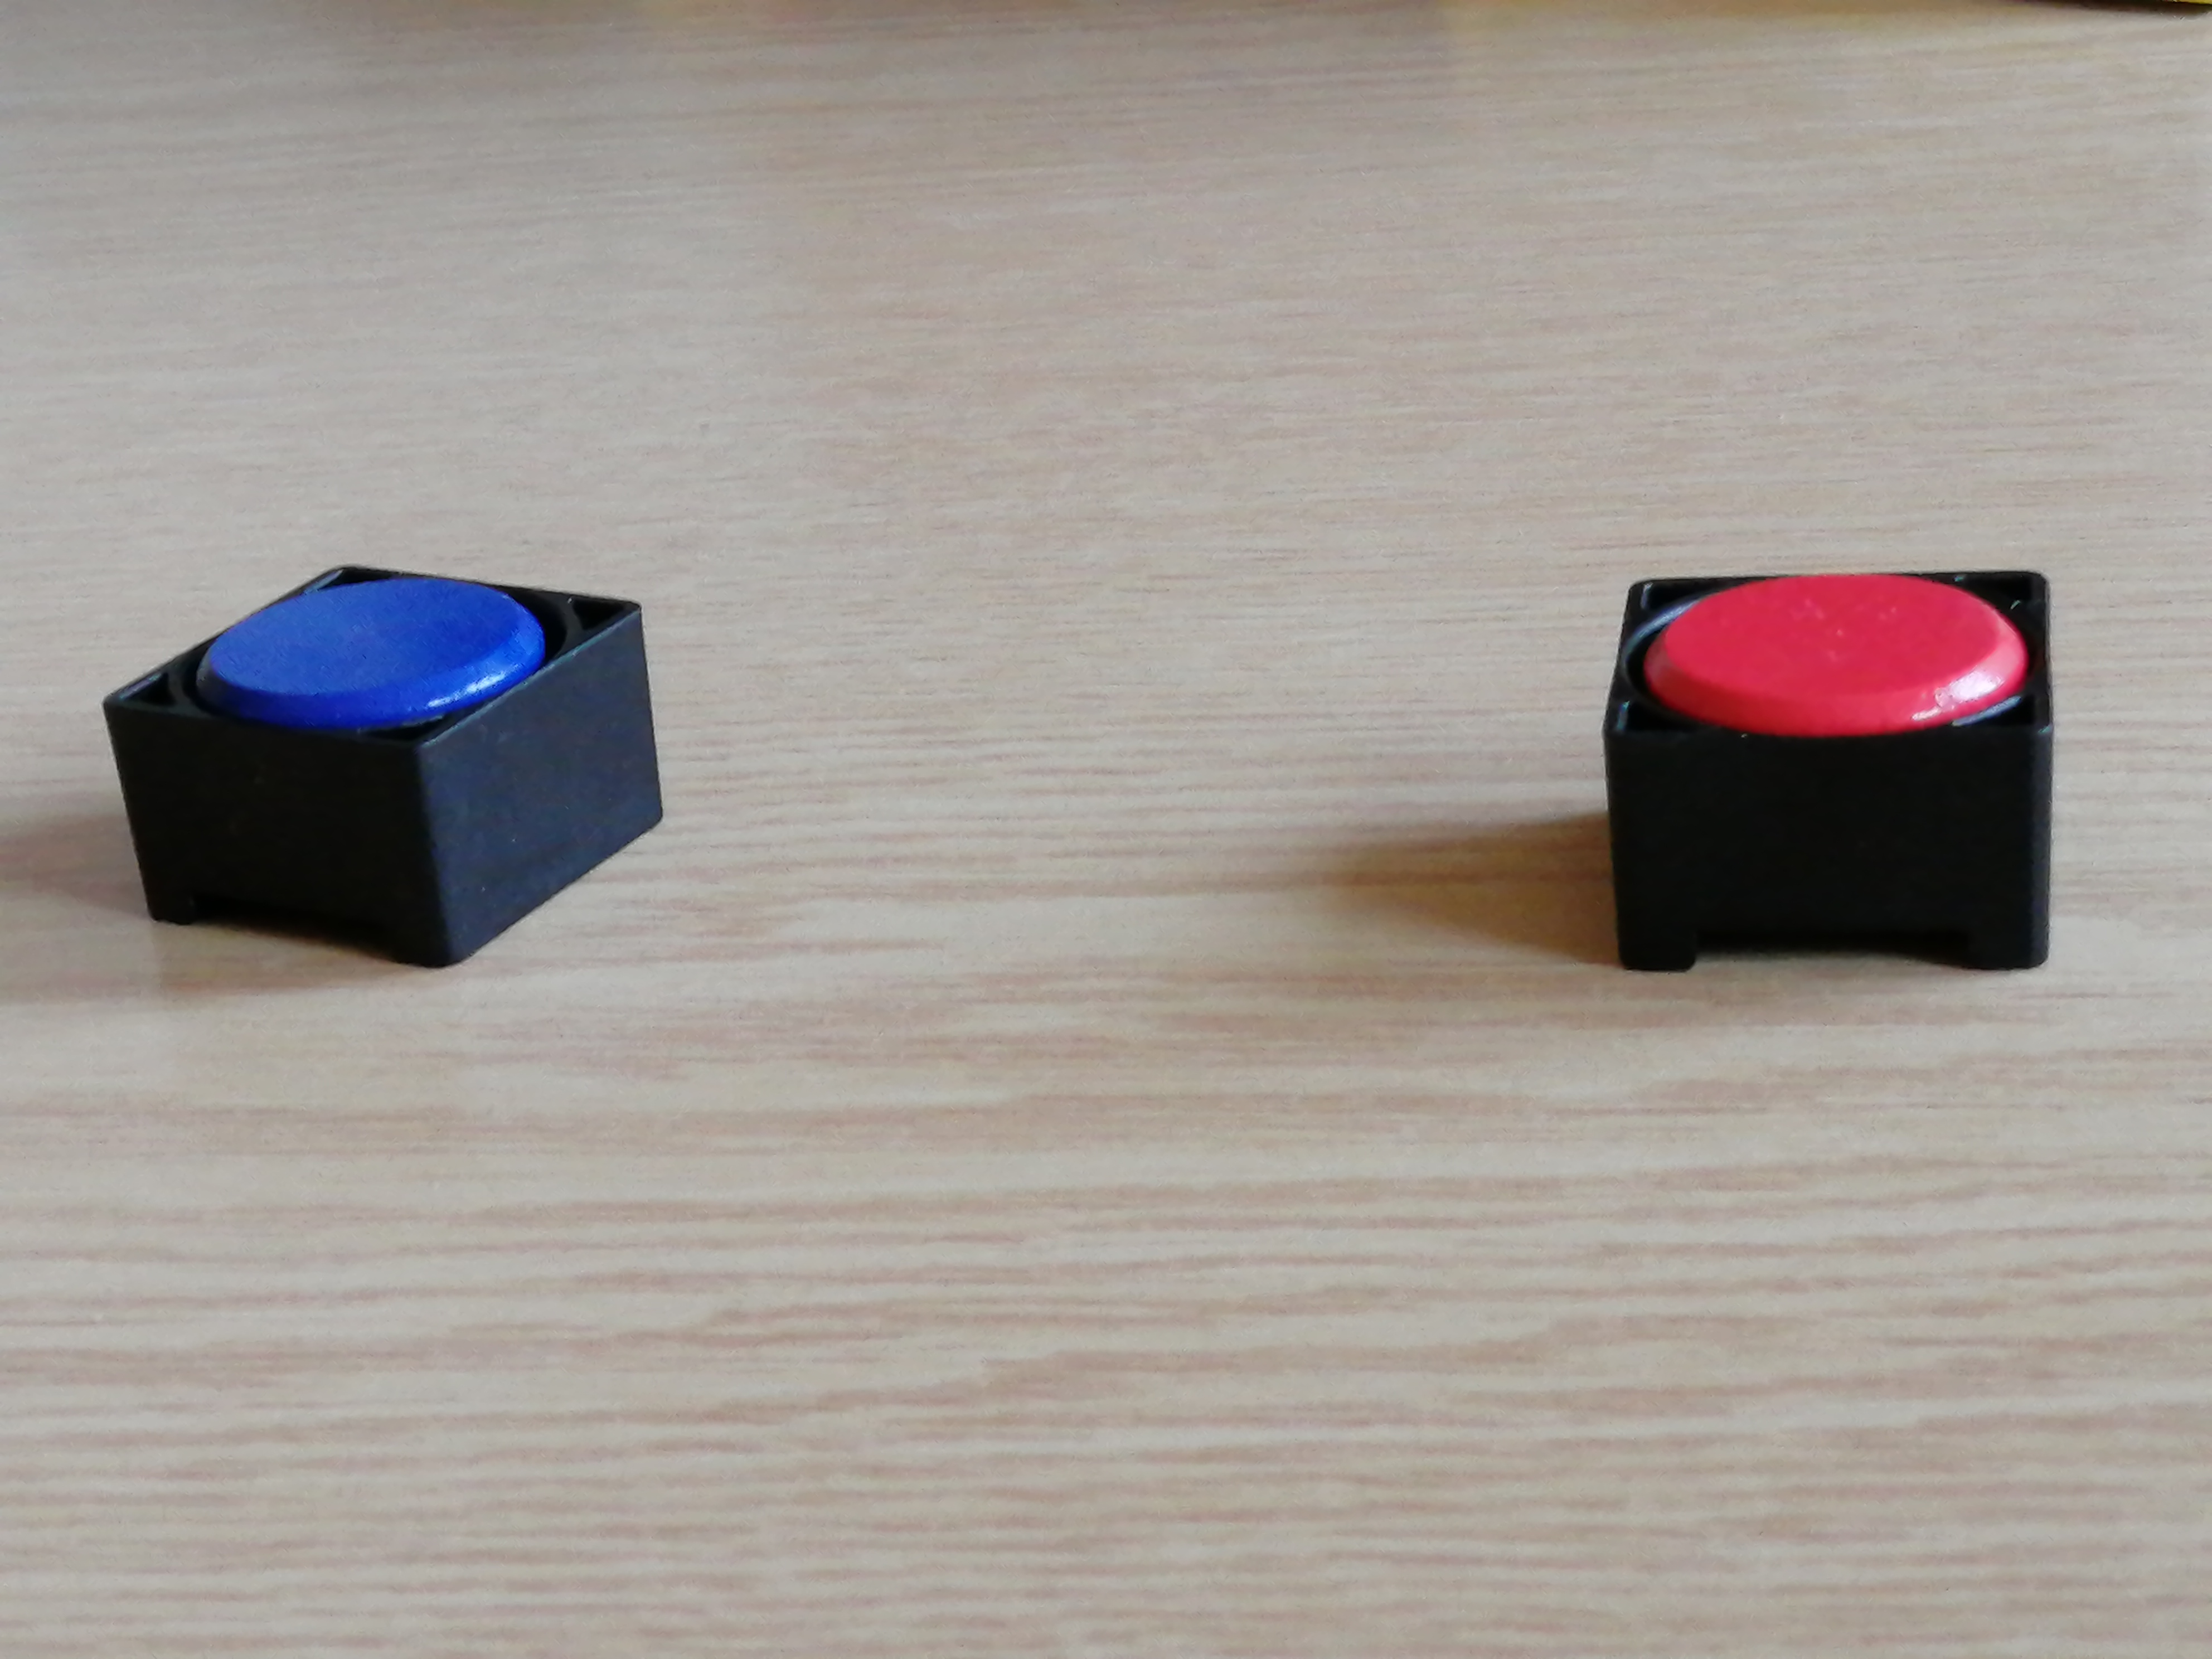Behaelter: (103, 566, 667, 955), (1595, 577, 2064, 969)
WerkStueck: (1653, 579, 2026, 725), (202, 587, 540, 714)
